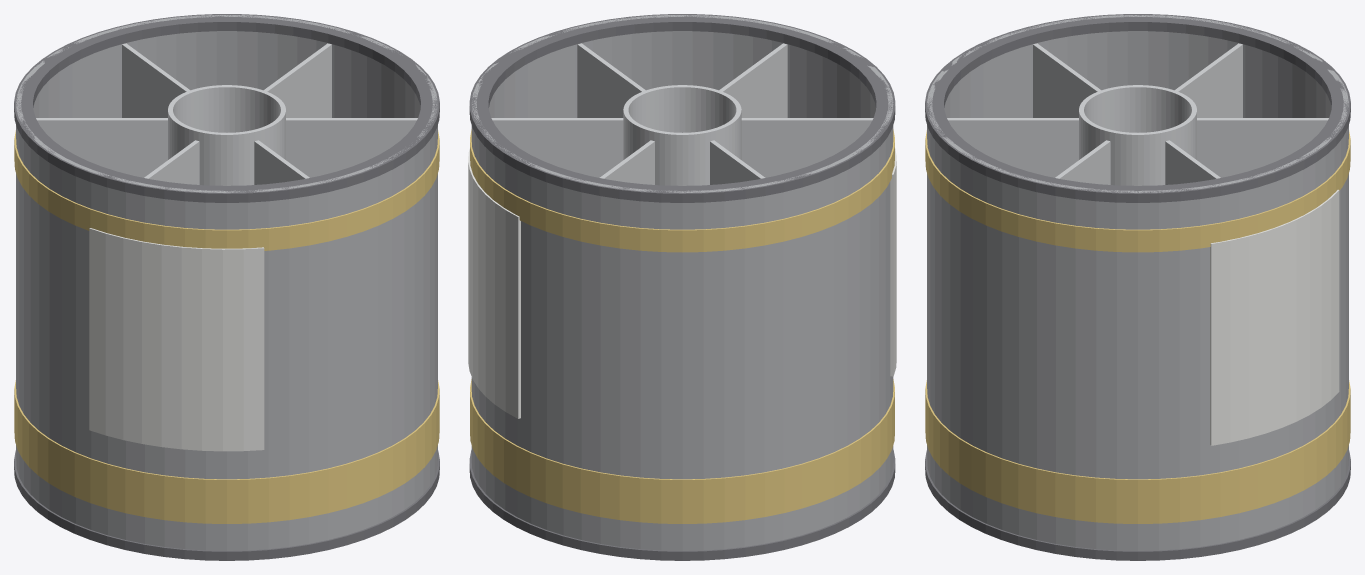
The model's file is cmd10_service_bay_m.glb.
The picture shows the model from 3 angles, left to right: view 1: azimuth 30°, elevation 25°; view 2: azimuth 150°, elevation 25°; view 3: azimuth 270°, elevation 25°; orthographic projection.
Parts seen in each view (by area): view 1: skin, radiator_panels, mli_bands, stack_rings, sector_bulkheads, central_tube; view 2: skin, mli_bands, stack_rings, sector_bulkheads, radiator_panels, central_tube; view 3: skin, mli_bands, radiator_panels, stack_rings, sector_bulkheads, central_tube.
Boxes of the visible parts, x1,y1,x2,y2 form: skin: (16, 15, 437, 550); radiator_panels: (89, 228, 264, 451); mli_bands: (14, 130, 439, 523); stack_rings: (14, 14, 439, 560); sector_bulkheads: (36, 43, 417, 184); central_tube: (168, 85, 285, 185); skin: (471, 15, 893, 550); mli_bands: (470, 129, 894, 523); stack_rings: (469, 14, 895, 560); sector_bulkheads: (491, 43, 873, 184); radiator_panels: (468, 148, 896, 418); central_tube: (623, 85, 741, 185); skin: (927, 15, 1348, 550); mli_bands: (925, 130, 1350, 523); radiator_panels: (1210, 189, 1339, 445); stack_rings: (925, 14, 1350, 560); sector_bulkheads: (947, 43, 1328, 184); central_tube: (1079, 85, 1196, 185).
Size of the model in its own units: 2.52 by 2.4 by 2.52.
